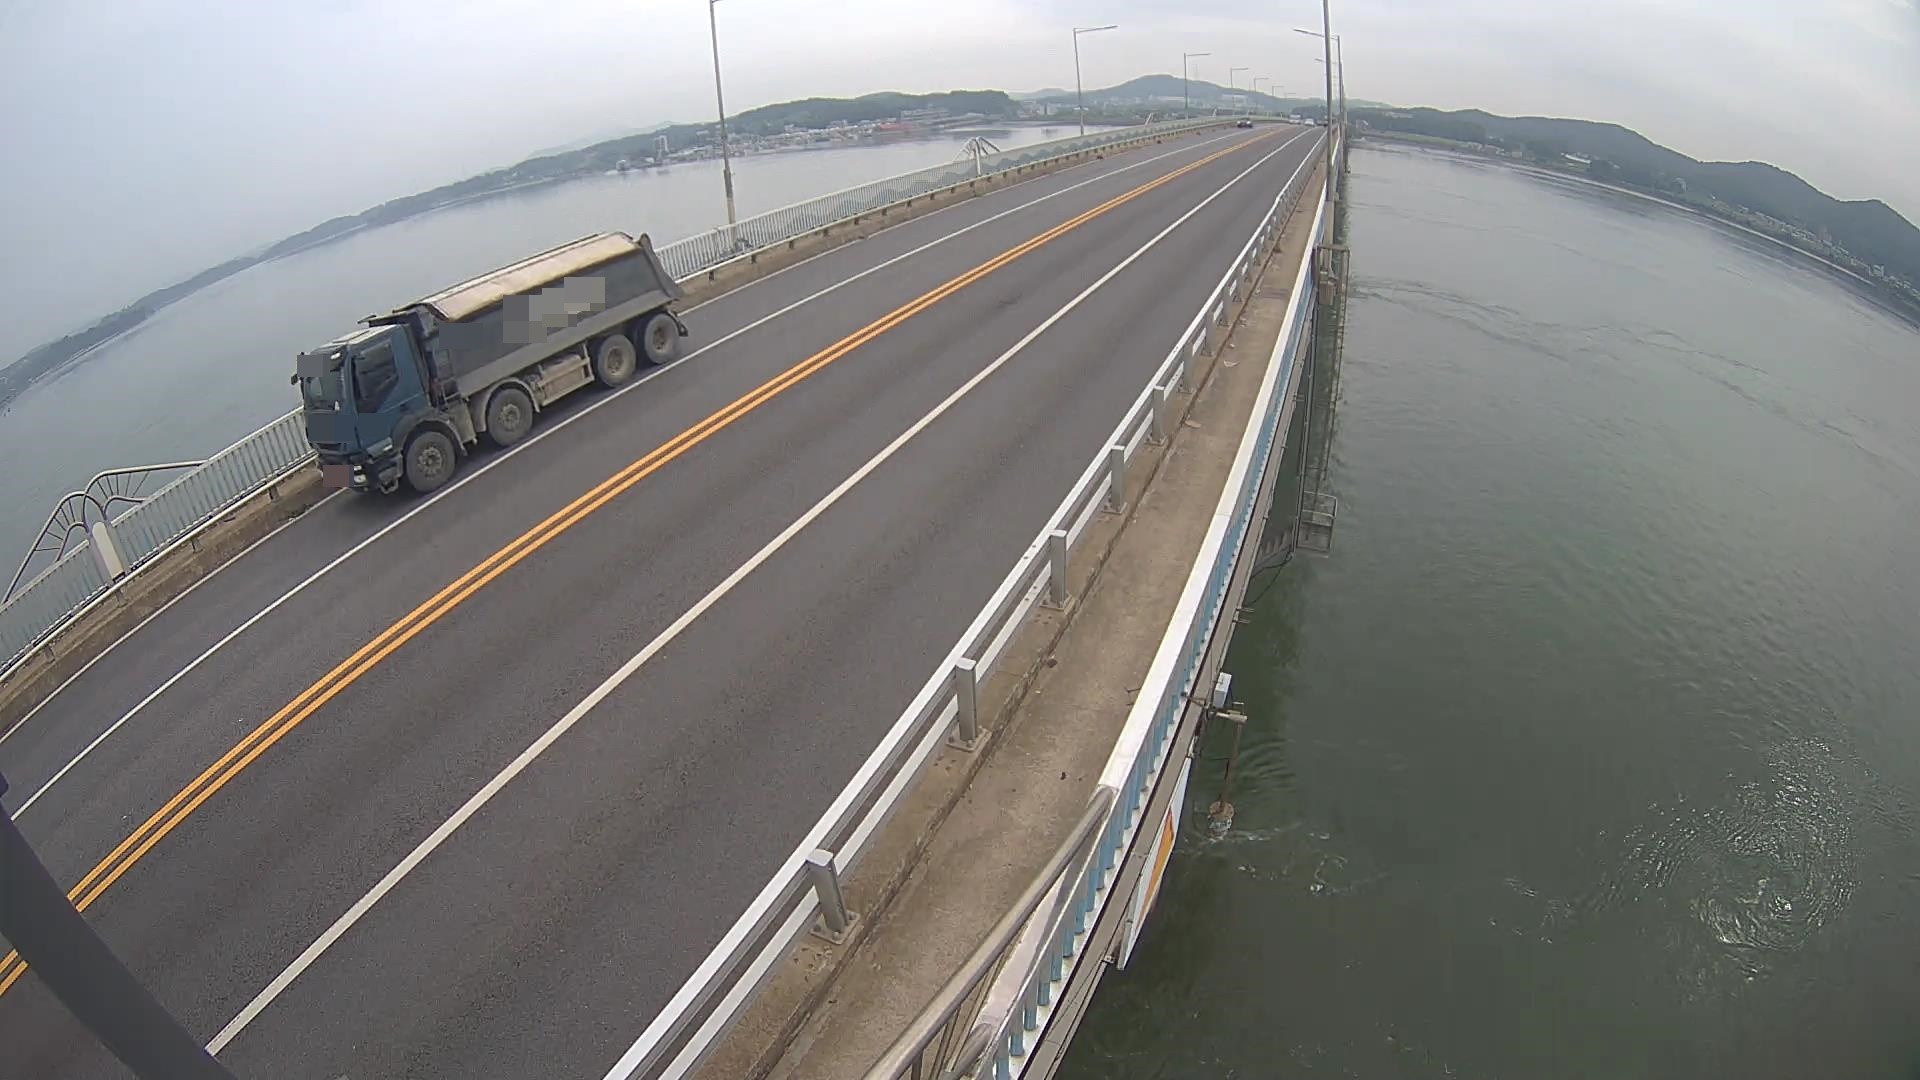정상차량: (290, 232, 691, 495)
